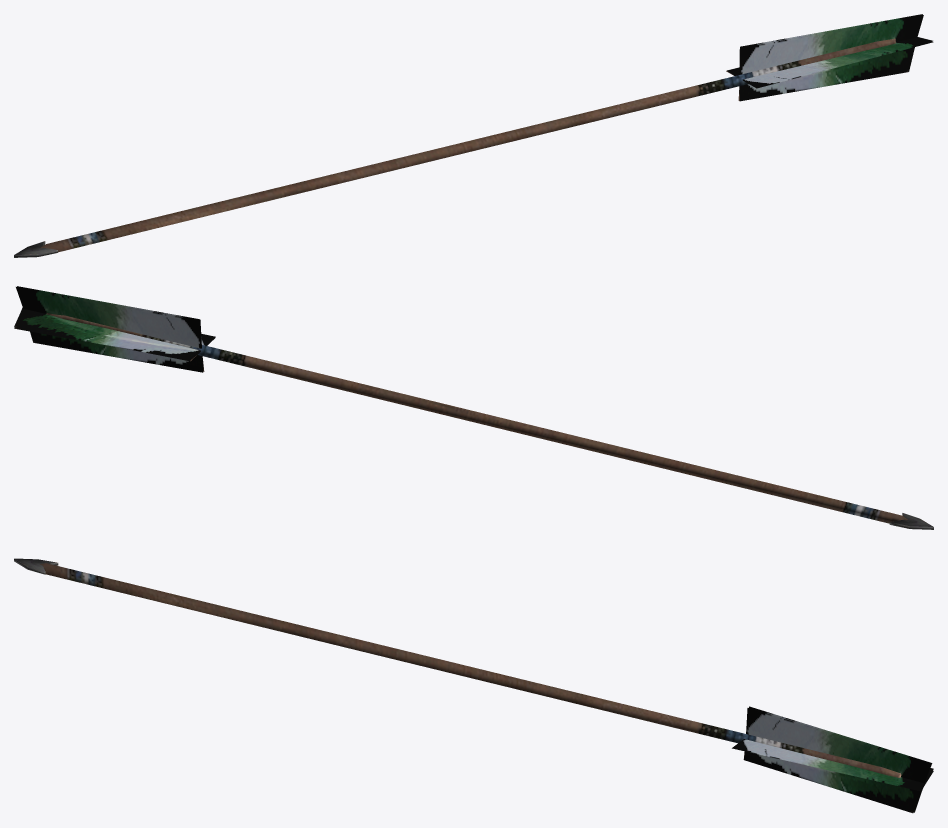
Rendered from Arrow.fbx.
The picture shows the model from 3 angles, top to bottom: view 1: azimuth 30°, elevation 25°; view 2: azimuth 150°, elevation 25°; view 3: azimuth 330°, elevation 25°; orthographic projection.
Visible parts, largest first — view 1: default004; view 2: default004; view 3: default004.
Boxes of the visible parts, box(x1,y1,x2,y2) form: default004: box(14, 14, 933, 257); default004: box(14, 286, 933, 529); default004: box(14, 558, 933, 813).
Size of the model in its own units: 72.03 by 4.83 by 4.76.
Materials: 1 (1 with a texture image).
